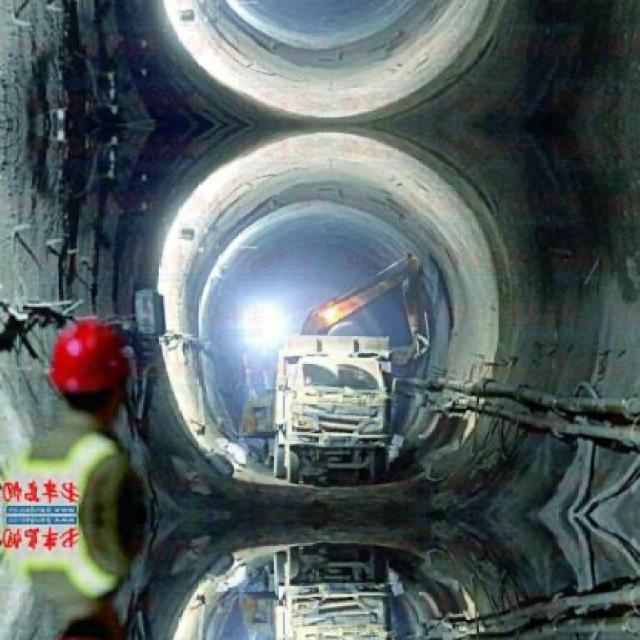con casco: (23, 315, 159, 440)
